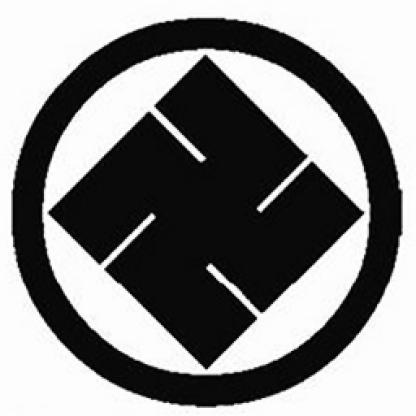kamon: (10, 18, 403, 408)
